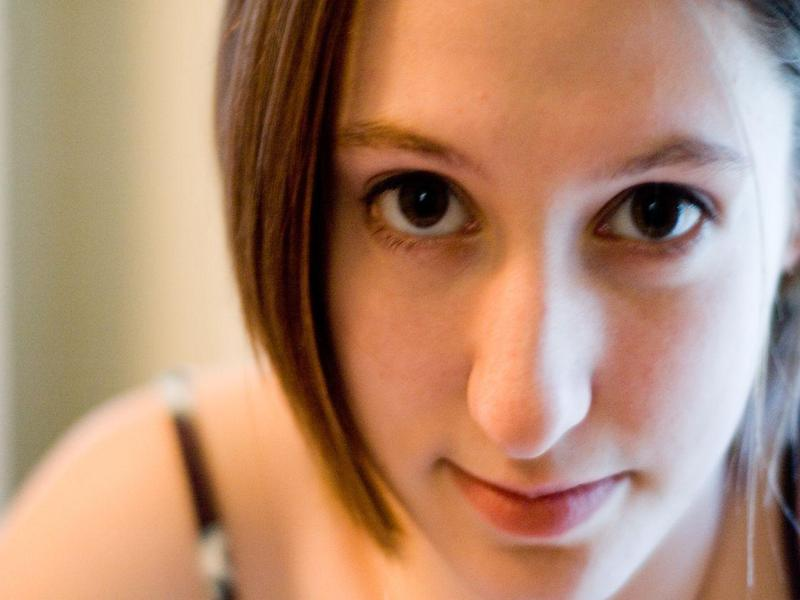person: (53, 2, 780, 600)
